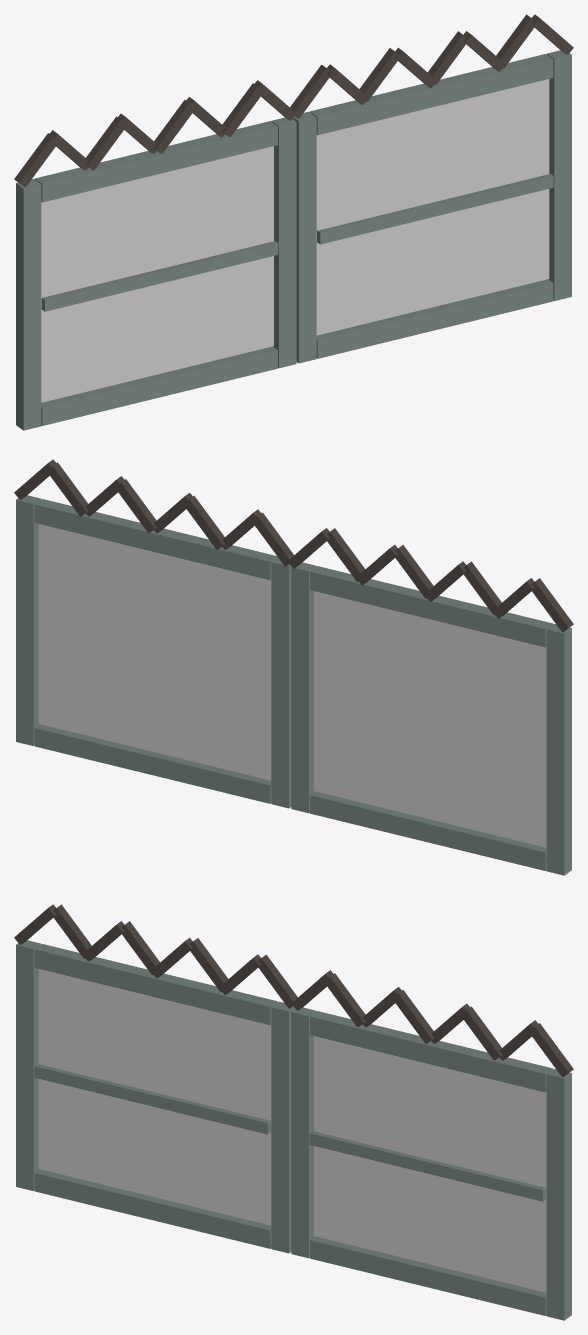
File: SM_PuertaVia_v3_MallaEspino_e0_Sano_LOD1.fbx
The picture shows the model from 3 angles, top to bottom: view 1: azimuth 30°, elevation 25°; view 2: azimuth 150°, elevation 25°; view 3: azimuth 330°, elevation 25°; orthographic projection.
Visible parts, largest first — view 1: Hoja_O, Hoja_E; view 2: Hoja_O, Hoja_E; view 3: Hoja_E, Hoja_O.
Part boxes in pixels (left/top/right/bottom): Hoja_O: left=14, top=80, right=296, bottom=430; Hoja_E: left=290, top=14, right=573, bottom=363; Hoja_O: left=287, top=528, right=573, bottom=875; Hoja_E: left=14, top=459, right=293, bottom=808; Hoja_E: left=291, top=970, right=573, bottom=1320; Hoja_O: left=14, top=904, right=297, bottom=1253.
Size of what is drawn, in the model's own units: 5.04 by 2.48 by 0.155.
